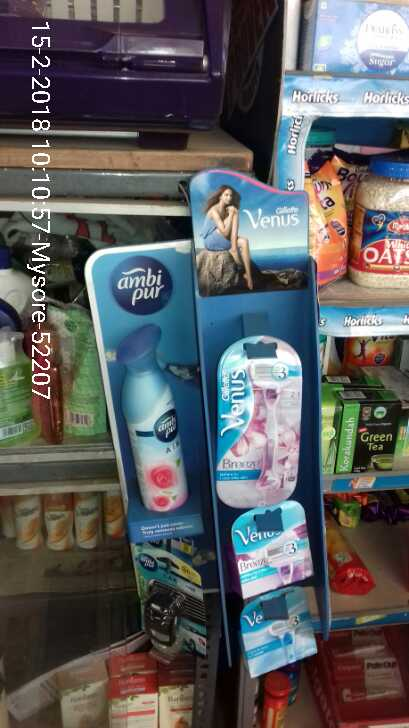beauty: (208, 323, 307, 498), (225, 516, 316, 585), (239, 606, 322, 657)
home: (108, 323, 200, 513), (136, 549, 210, 662)
